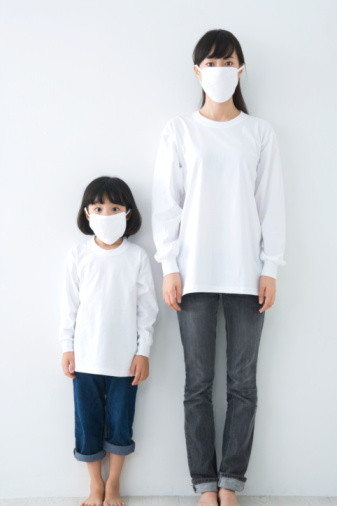face_mask: (200, 45, 237, 101), (89, 197, 128, 246)
